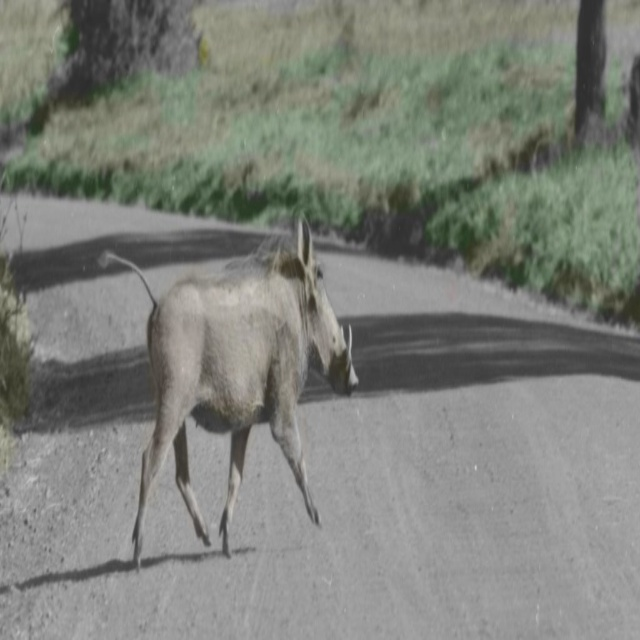Pig: (95, 209, 357, 572)
